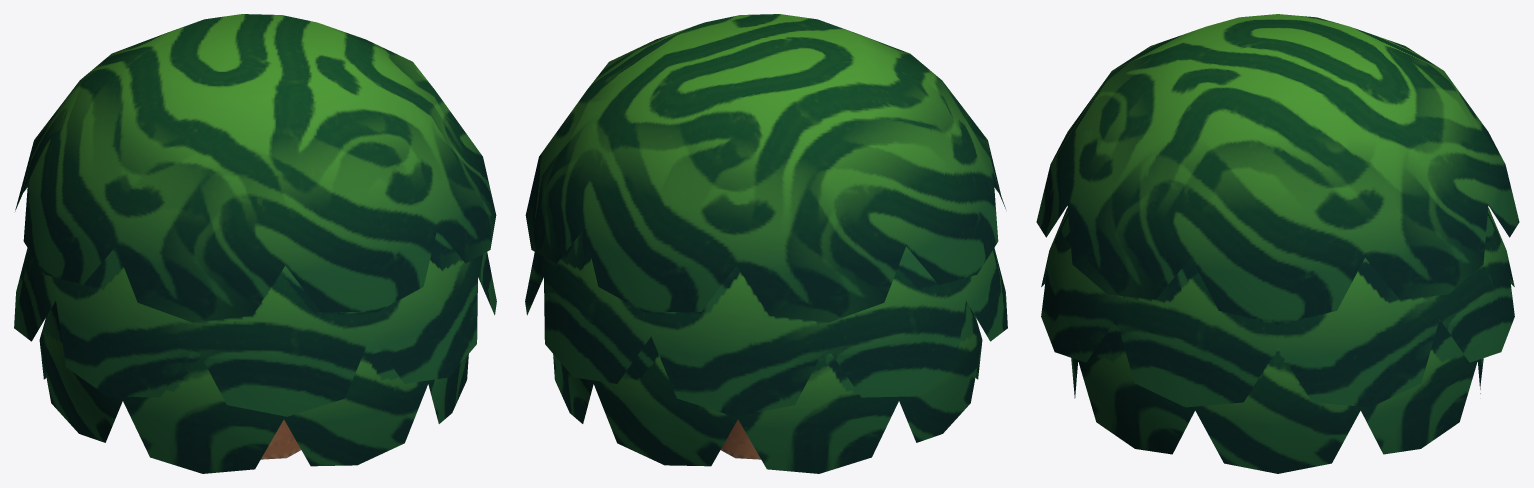
The model's file is small_bush.glb.
The picture shows the model from 3 angles, left to right: view 1: azimuth 30°, elevation 25°; view 2: azimuth 150°, elevation 25°; view 3: azimuth 270°, elevation 25°; orthographic projection.
Parts seen in each view (by area): view 1: small_bush; view 2: small_bush; view 3: small_bush.
Boxes of the visible parts, x1,y1,x2,y2 form: small_bush: (14,14,496,473); small_bush: (525,14,1007,473); small_bush: (1036,14,1519,473).
Bounding box in the file's own units: 0.8343 × 0.7376 × 0.8343.
Materials: 1 (1 with a texture image).
